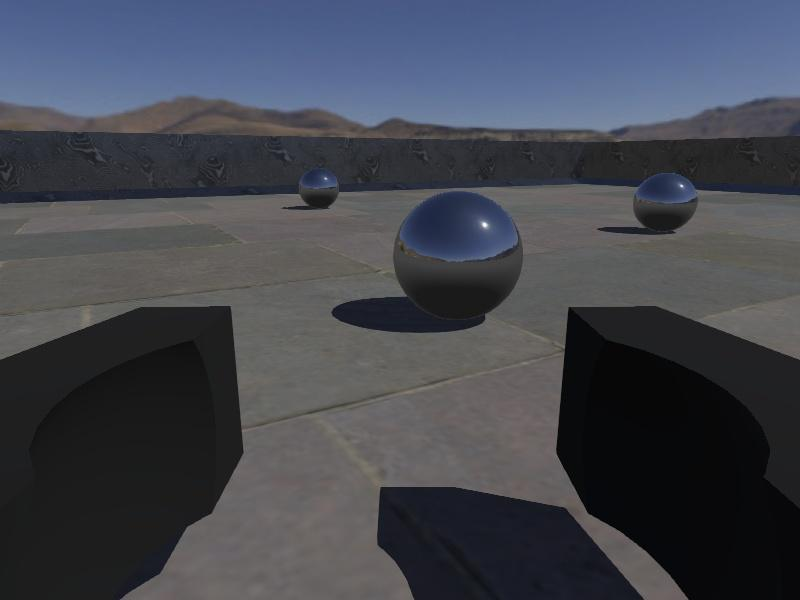steel ball: (393, 190, 525, 322), (632, 171, 698, 232), (298, 167, 341, 209)
